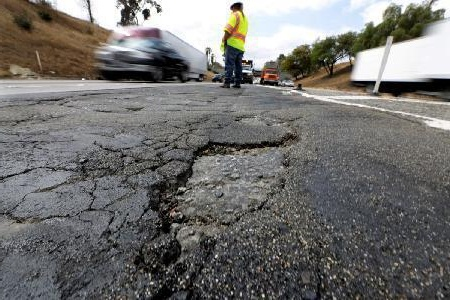pothole: (145, 129, 303, 230), (133, 236, 216, 300), (235, 111, 294, 128)
